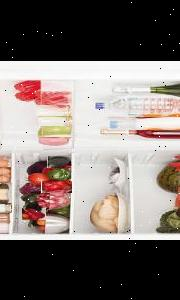Huevos: (0, 174, 12, 182), (0, 166, 12, 174), (0, 159, 12, 166)
Leche: (108, 116, 180, 129)
Manzana: (36, 122, 71, 136), (38, 132, 72, 145)
Pepino: (48, 155, 72, 167)
Tomate: (24, 171, 53, 185)
Yogur: (34, 104, 74, 116), (36, 115, 74, 125), (0, 221, 16, 232), (0, 212, 16, 222), (0, 202, 16, 212)
